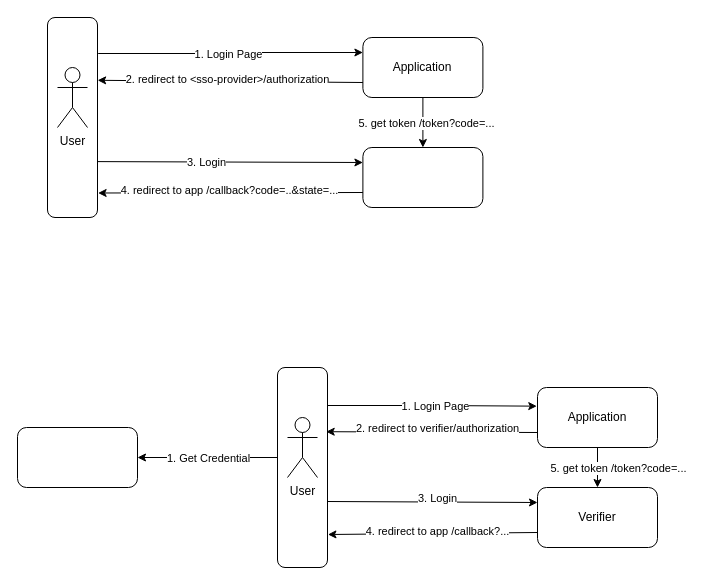
Some shapes in this 703 by 585 pixel diagram are drawn without their labels. Each missing label, with the box of its shape:
Issuer: (16, 426, 138, 488)
SSO-Provider: (362, 146, 483, 208)
